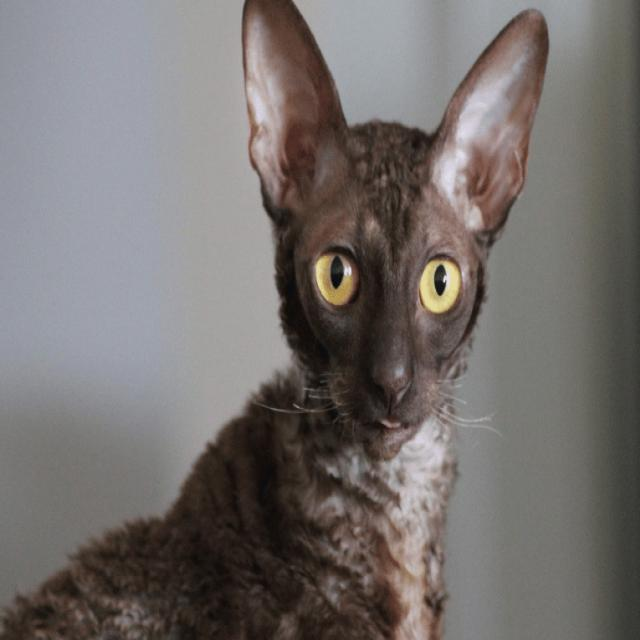Cornish Rex: (0, 0, 554, 640)
